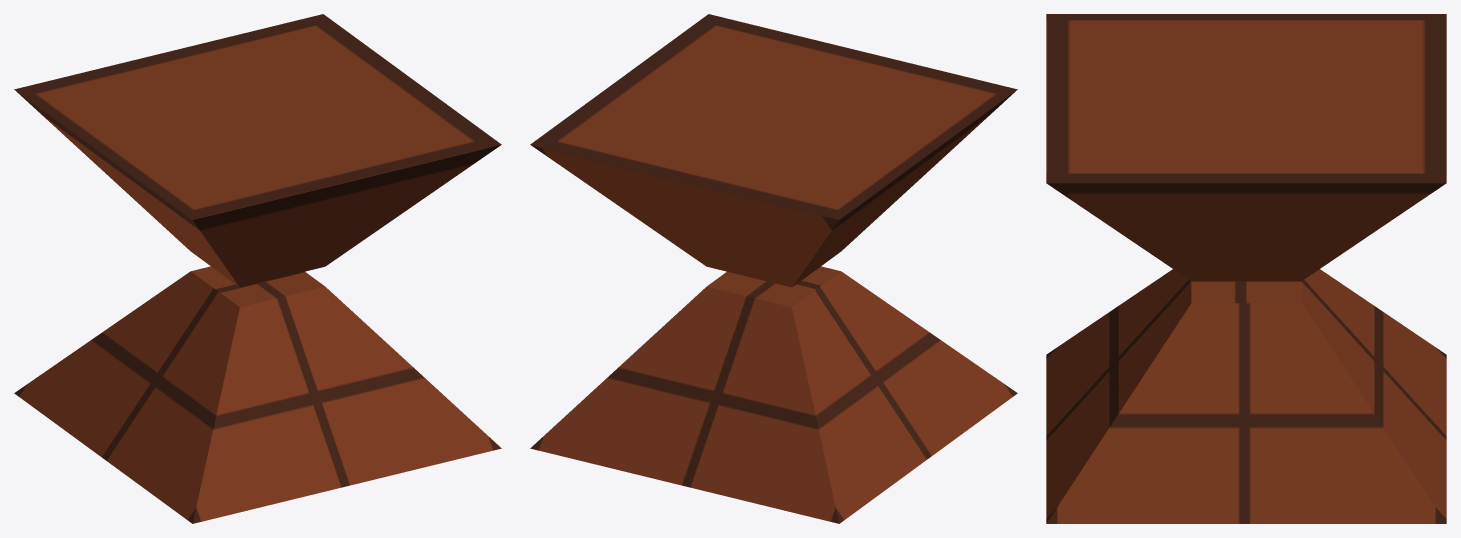
File: asdf.glb
3 views of the same model, side by side, from view 1: azimuth 30°, elevation 25°; view 2: azimuth 150°, elevation 25°; view 3: azimuth 270°, elevation 25° (orthographic). The views are drawn at different scales.
Visible parts, largest first — view 1: Cube.001, Cube; view 2: Cube.001, Cube; view 3: Cube.001, Cube.
Boxes of the visible parts, x1,y1,x2,y2 form: Cube.001: [14, 14, 501, 287]; Cube: [14, 266, 501, 523]; Cube.001: [530, 14, 1017, 287]; Cube: [530, 266, 1017, 523]; Cube.001: [1046, 14, 1446, 281]; Cube: [1046, 269, 1446, 523].
Bounding box in the file's own units: 2 × 1.88 × 2.
Materials: 1 (1 with a texture image).
